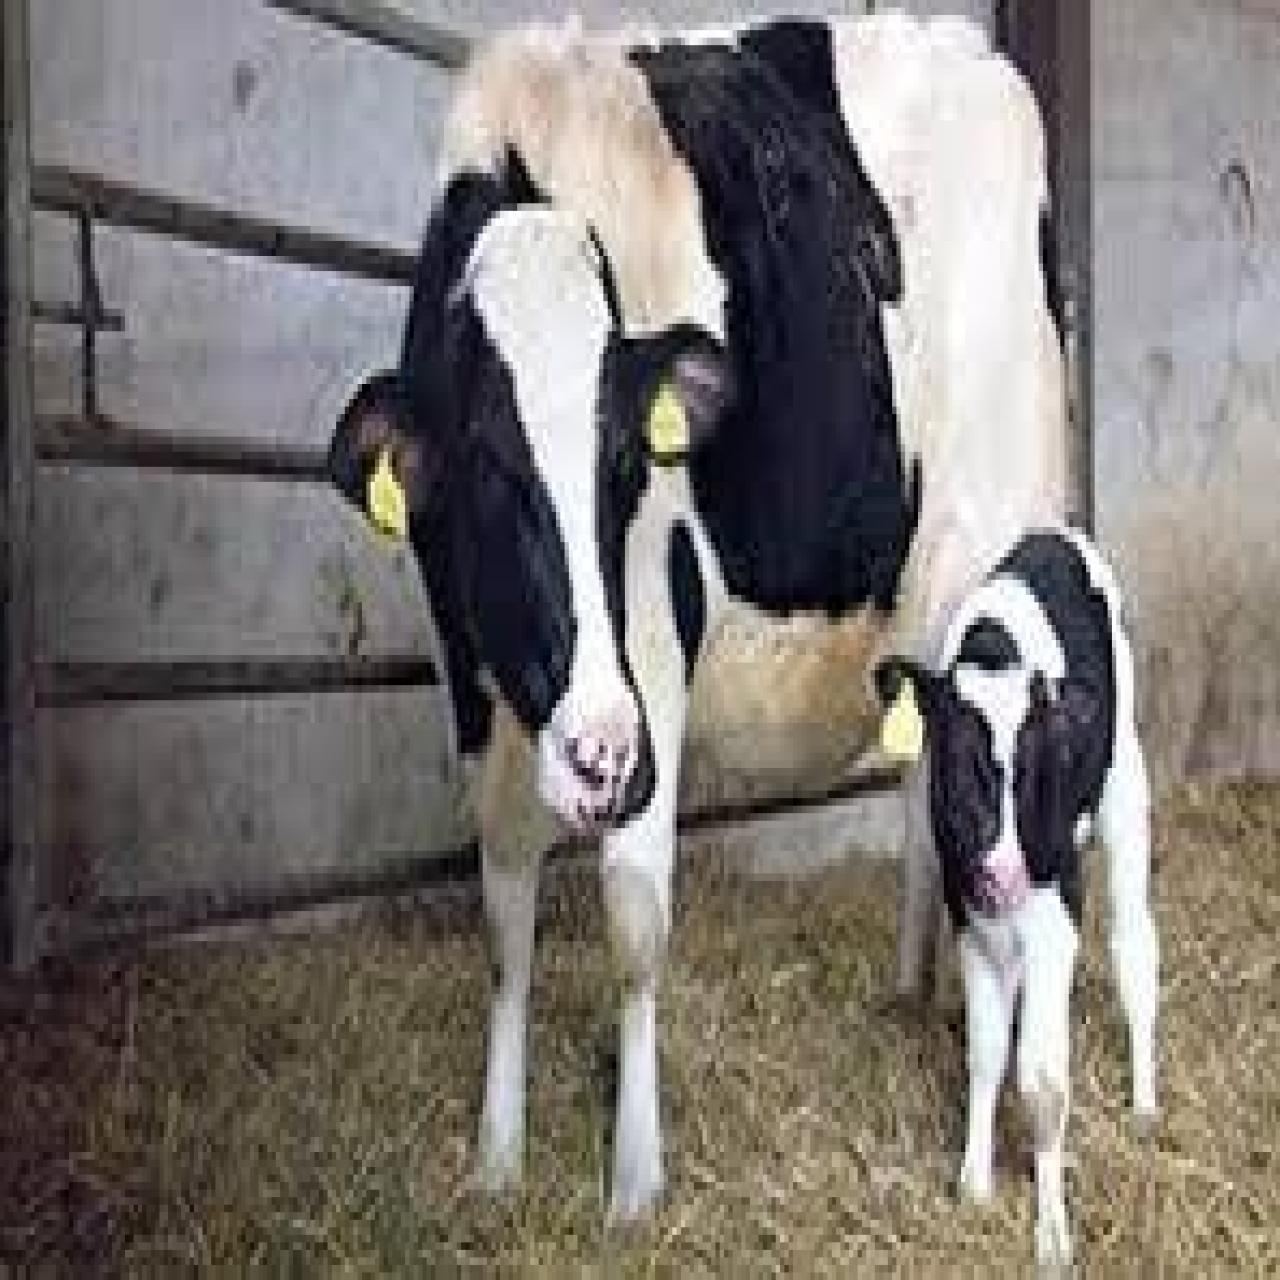cow: (329, 0, 1062, 1227), (873, 527, 1157, 1280)
